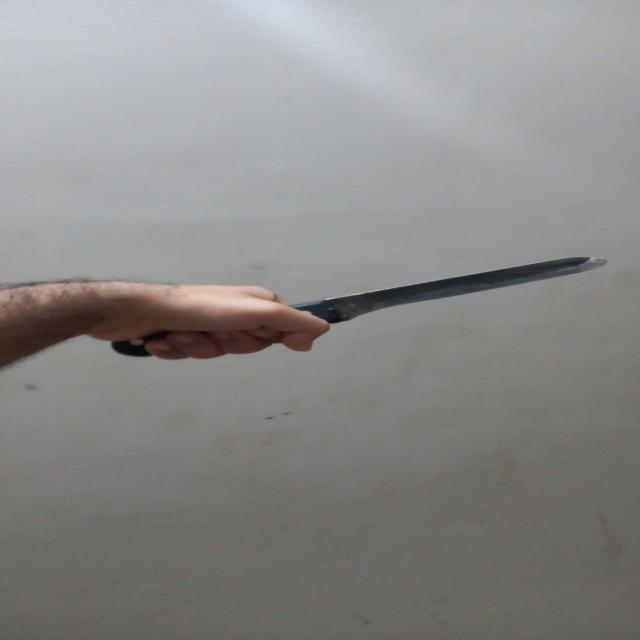Knife: (105, 251, 617, 360)
